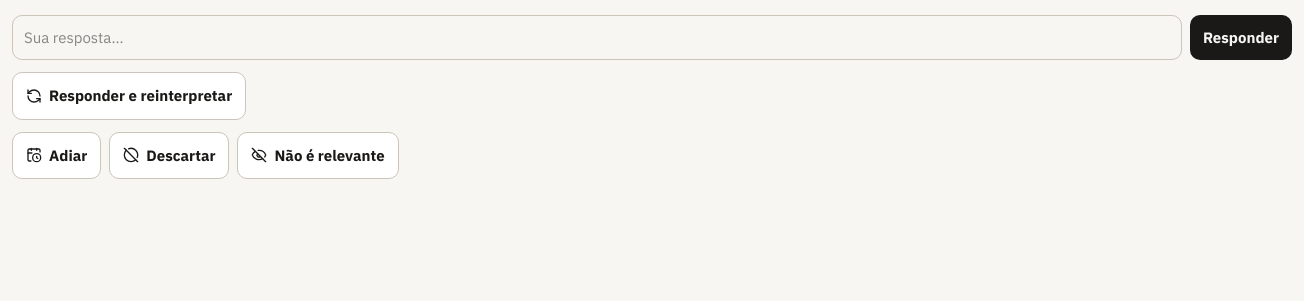
Test: QuestionAnswerForm › mutates nothing when the consequence panel is opened
Step 1. Type "Sexta às 14h" into the field labelled "resposta" → (597, 38), box [12,15,1182,60]
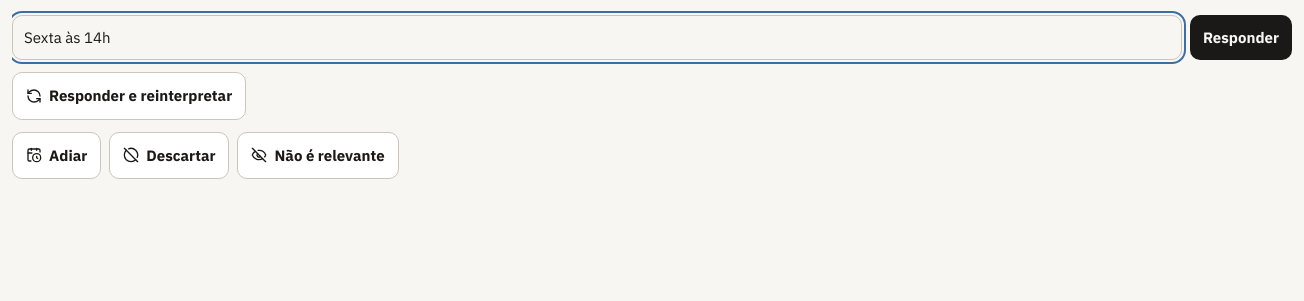
Step 2. Click the button "Responder e reinterpretar" → (129, 96), box [12,72,246,120]
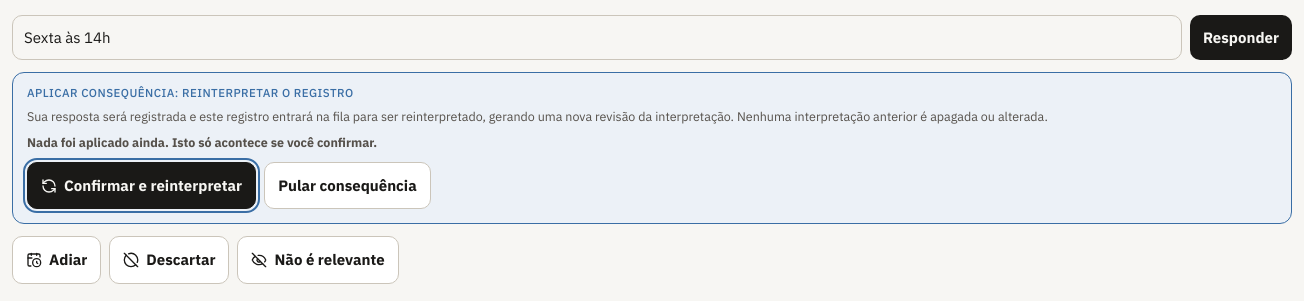
Check: the text "Nada foi aplicado ainda. Isto só acontece se você confirmar." is shown, box [27,134,377,150]
